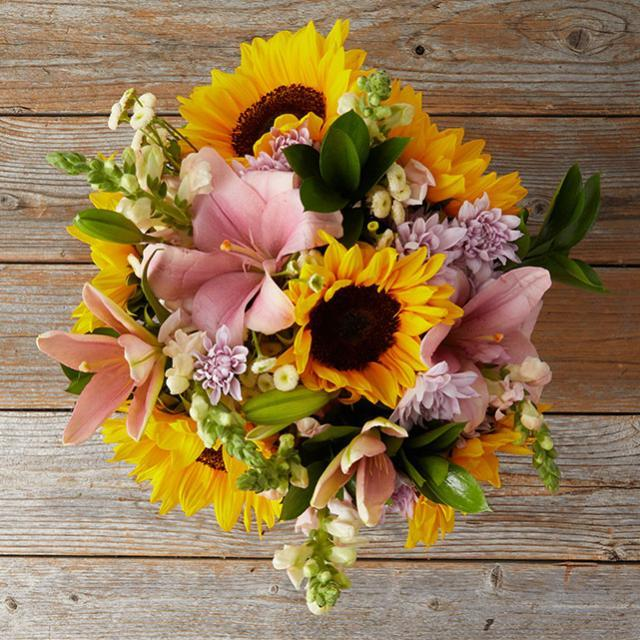sunflower: (270, 230, 462, 408), (175, 17, 374, 165), (99, 391, 289, 536), (376, 79, 533, 234), (404, 399, 556, 551), (63, 192, 155, 337)
